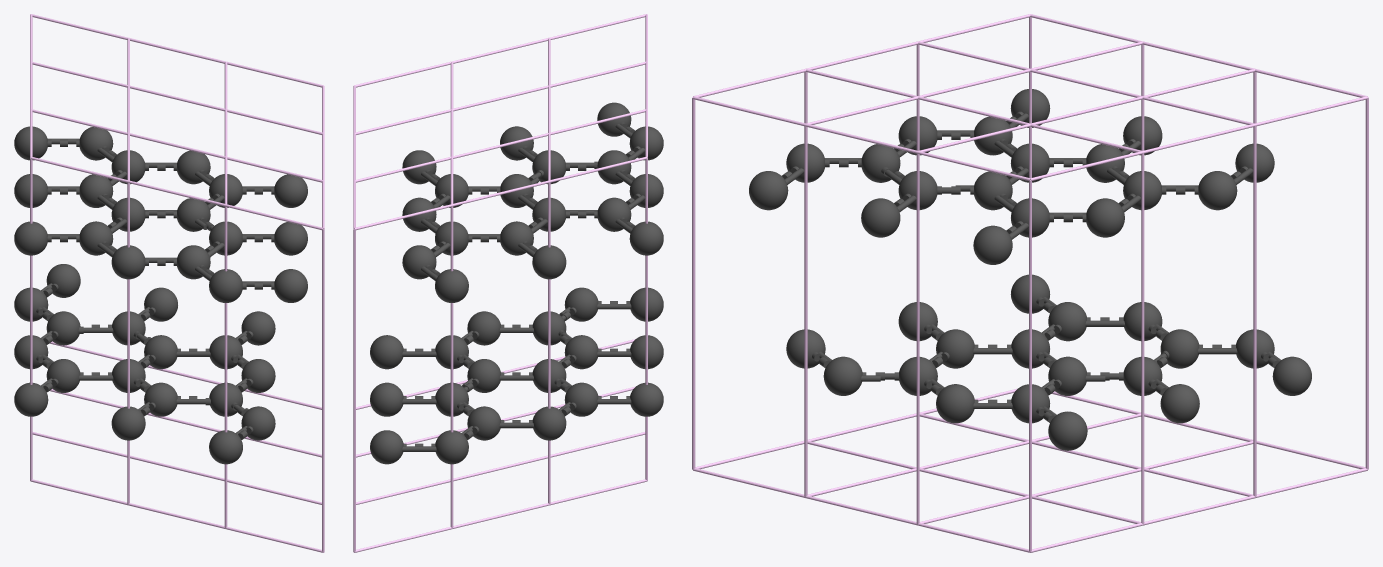
File: C_graphite.glb
3 views of the same model, side by side, from view 1: azimuth 30°, elevation 25°; view 2: azimuth 150°, elevation 25°; view 3: azimuth 270°, elevation 25° (orthographic). The views are drawn at different scales.
Visible parts, largest first — view 1: 0-3.002, 1-5.002, C02.001, C01.001, C04.002, C02, C02.002, C01, C01.002, C04.008, C04.005, C03.002 (+28 smaller); view 2: 0-3.006, 2-6.006, C02.003, C02, C03.008, C03.007, C01.003, C02.006, C03.006, C01.006, C01, C03.003 (+28 smaller); view 3: 1-5.002, 1-5.005, 2-6.006, 2-6.007, 1-5.008, 2-6.008, C03.007, C03.008, C04.008, C04.005, C04.006, C04.002 (+31 smaller).
Part boxes in pixels (x1,y1,x2,y2): 0-3.002: (224, 206, 227, 527); 1-5.002: (322, 229, 324, 552); C02.001: (111, 245, 145, 279); C01.001: (111, 406, 145, 440); C04.002: (274, 269, 307, 302); C02: (14, 221, 47, 255); C02.002: (209, 269, 242, 302); C01: (14, 382, 48, 416); C01.002: (209, 430, 242, 464); C04.008: (274, 174, 307, 207); C04.005: (274, 222, 307, 255); C03.002: (241, 406, 275, 440); 0-3.006: (450, 206, 453, 527); 2-6.006: (353, 229, 355, 552); C02.003: (532, 245, 566, 279); C02: (629, 221, 663, 255); C03.008: (370, 335, 403, 369); C03.007: (370, 382, 403, 416); C01.003: (532, 406, 566, 440); C02.006: (435, 269, 468, 302); C03.006: (370, 430, 403, 464); C01.006: (435, 430, 468, 464); C01: (630, 382, 663, 416); C03.003: (467, 406, 500, 440); 1-5.002: (692, 97, 695, 469); 1-5.005: (804, 126, 807, 496); 2-6.006: (1365, 97, 1368, 469); 2-6.007: (1253, 126, 1256, 496); 1-5.008: (916, 153, 919, 524); 2-6.008: (1141, 153, 1144, 524); C03.007: (1160, 384, 1199, 423); C03.008: (1048, 411, 1087, 450); C04.008: (973, 225, 1012, 264); C04.005: (861, 198, 900, 237); C04.006: (1198, 171, 1237, 210); C04.002: (749, 171, 788, 210).
Bounding box in the file's own units: 7.81 × 7.86 × 12.88.
